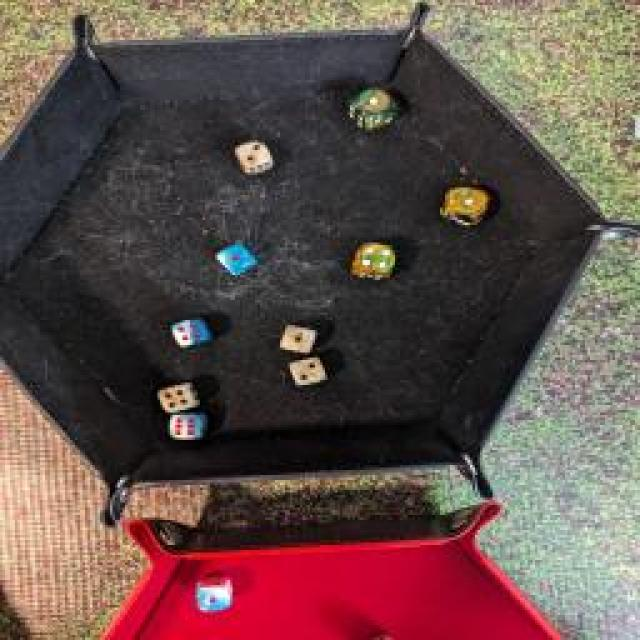dice_1: (434, 182, 494, 228), (342, 86, 402, 129), (188, 572, 242, 616), (214, 239, 258, 279), (276, 322, 322, 356)
dice_2: (282, 354, 332, 388), (232, 137, 276, 175)
dice_4: (345, 239, 405, 281), (155, 375, 200, 415), (170, 314, 215, 348)
dice_6: (161, 409, 211, 441)
